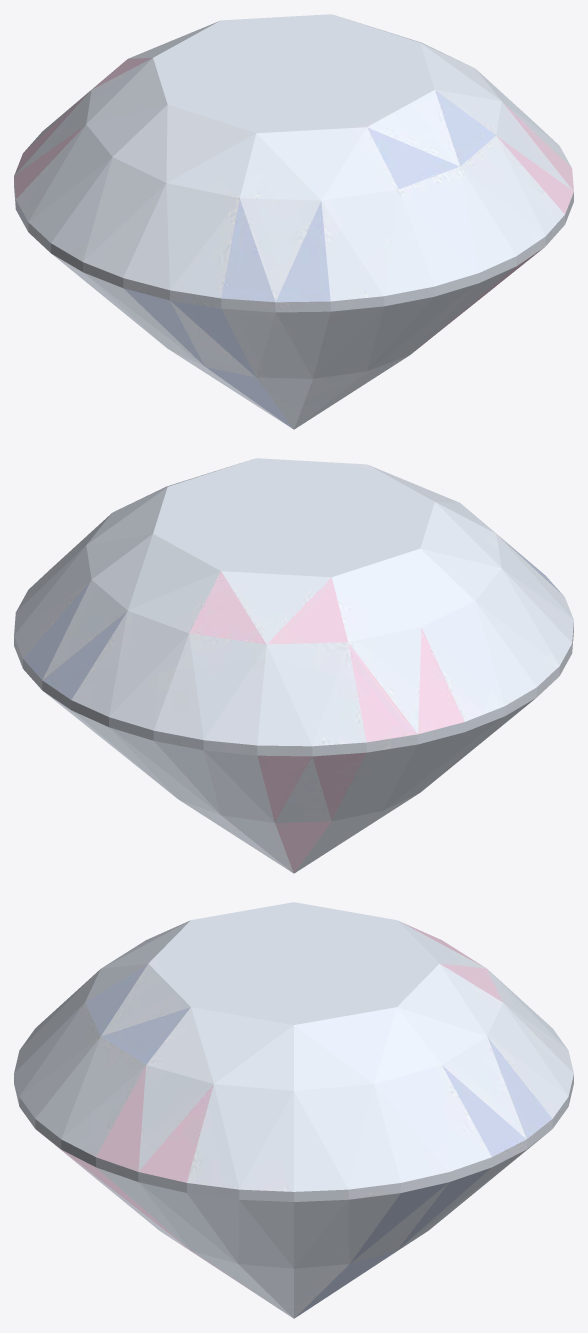
3 views of the same model, one above another, from view 1: azimuth 30°, elevation 25°; view 2: azimuth 150°, elevation 25°; view 3: azimuth 270°, elevation 25° (orthographic).
Visible parts, largest first — view 1: Diamond_white_EEF4FF, Subtle_midnight_blue_dispersion, Subtle_neon_magenta_dispersion; view 2: Diamond_white_EEF4FF, Subtle_neon_magenta_dispersion, Subtle_midnight_blue_dispersion; view 3: Diamond_white_EEF4FF, Subtle_midnight_blue_dispersion, Subtle_neon_magenta_dispersion.
Part boxes in pixels (box(x1,y1,x2,y2)): Diamond_white_EEF4FF: box(14, 14, 573, 429); Subtle_midnight_blue_dispersion: box(123, 90, 495, 429); Subtle_neon_magenta_dispersion: box(14, 57, 573, 353); Diamond_white_EEF4FF: box(14, 458, 573, 873); Subtle_neon_magenta_dispersion: box(189, 571, 464, 873); Subtle_midnight_blue_dispersion: box(23, 536, 563, 699); Diamond_white_EEF4FF: box(14, 902, 573, 1318); Subtle_midnight_blue_dispersion: box(85, 964, 552, 1318); Subtle_neon_magenta_dispersion: box(40, 921, 502, 1303).
Size of the model in its own units: 0.3 by 0.21 by 0.3.
3 materials, 3 textured.
